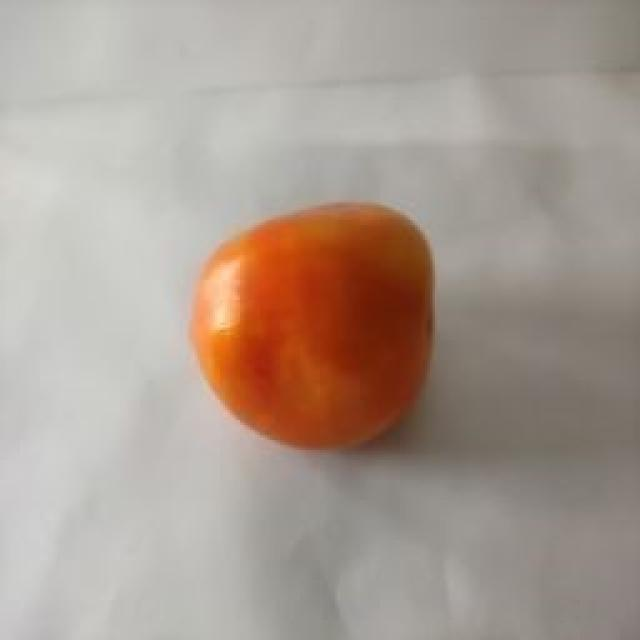Ripe: (180, 193, 441, 453)
